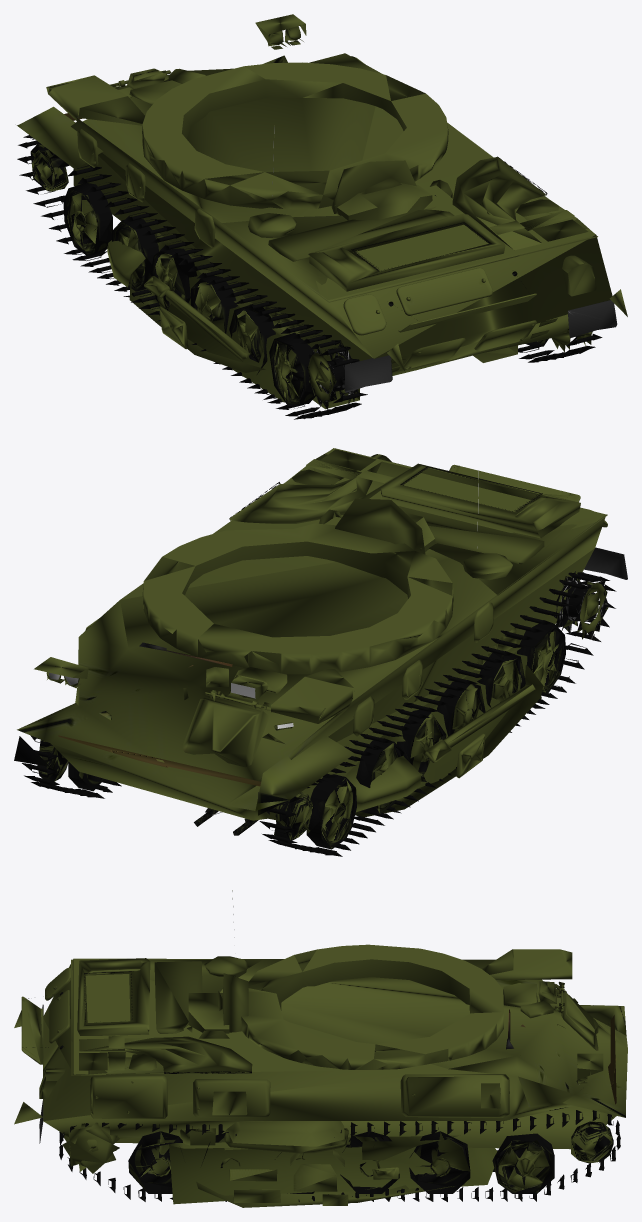
Rendered from zsu234_lo.glb.
3 views of the same model, one above another, from view 1: azimuth 30°, elevation 25°; view 2: azimuth 150°, elevation 25°; view 3: azimuth 270°, elevation 25° (orthographic). The views are drawn at different scales.
Parts seen in each view (by area): view 1: body|material_19, body|material_42, body|K.U.K, body|G.L.K.M, body|material, body|K.B.U, body|K.B.U.M, body|material_6, body|K.B.K, turret|bashnya, radar|Material.009, turret|material_46 (+9 smaller); view 2: body|material_19, body|material_42, body|K.U.K, body|G.L.K.M, body|material_6, body|material, radar|Material.010, body|K.B.U.M, turret|material_46, turret|K.D.F, turret|L.P.O.B.K, body|Sun.002 (+6 smaller); view 3: body|material_19, body|material_42, body|K.U.K, body|material_9, turret|bashnya, body|G.L.K.M, body|material_6, body|material, body|K.B.U, turret|material_46, turret|U.B.L.P, body|G.K.B (+8 smaller).
Part boxes in pixels (box(x1,y1,x2,y2)): body|material_19: box(17, 53, 612, 372); body|material_42: box(142, 62, 448, 209); body|K.U.K: box(248, 157, 588, 291); body|G.L.K.M: box(63, 183, 548, 404); body|material: box(17, 135, 602, 419); body|K.B.U: box(343, 255, 596, 335); body|K.B.U.M: box(221, 196, 597, 302); body|material_6: box(64, 14, 306, 120); body|K.B.K: box(344, 300, 617, 392); turret|bashnya: box(168, 265, 472, 402); radar|Material.009: box(334, 183, 432, 220); turret|material_46: box(144, 276, 250, 361); body|material_19: box(14, 448, 606, 820); body|material_42: box(142, 523, 453, 674); body|K.U.K: box(229, 449, 580, 580); body|G.L.K.M: box(68, 623, 565, 849); body|material_6: box(34, 642, 292, 786); body|material: box(22, 572, 616, 856); radar|Material.010: box(335, 498, 425, 554); body|K.B.U.M: box(284, 448, 607, 595); turret|material_46: box(425, 684, 535, 778); turret|K.D.F: box(345, 756, 421, 812); turret|L.P.O.B.K: box(355, 665, 543, 817); body|Sun.002: box(37, 739, 313, 840); body|material_19: box(43, 949, 627, 1149); body|material_42: box(241, 944, 503, 1069); body|K.U.K: box(77, 956, 252, 1073); body|material_9: box(90, 1074, 509, 1118); turret|bashnya: box(169, 1144, 497, 1204); body|G.L.K.M: box(128, 1131, 554, 1193); body|material_6: box(503, 981, 616, 1104); body|material: box(59, 1110, 620, 1201); body|K.B.U: box(21, 967, 70, 1098); turret|material_46: box(229, 1164, 398, 1205); turret|U.B.L.P: box(227, 1121, 344, 1146); body|G.K.B: box(62, 1122, 119, 1173).
Size of the model in its own units: 3.09 by 2.76 by 6.24.
77 materials, 65 textured.
